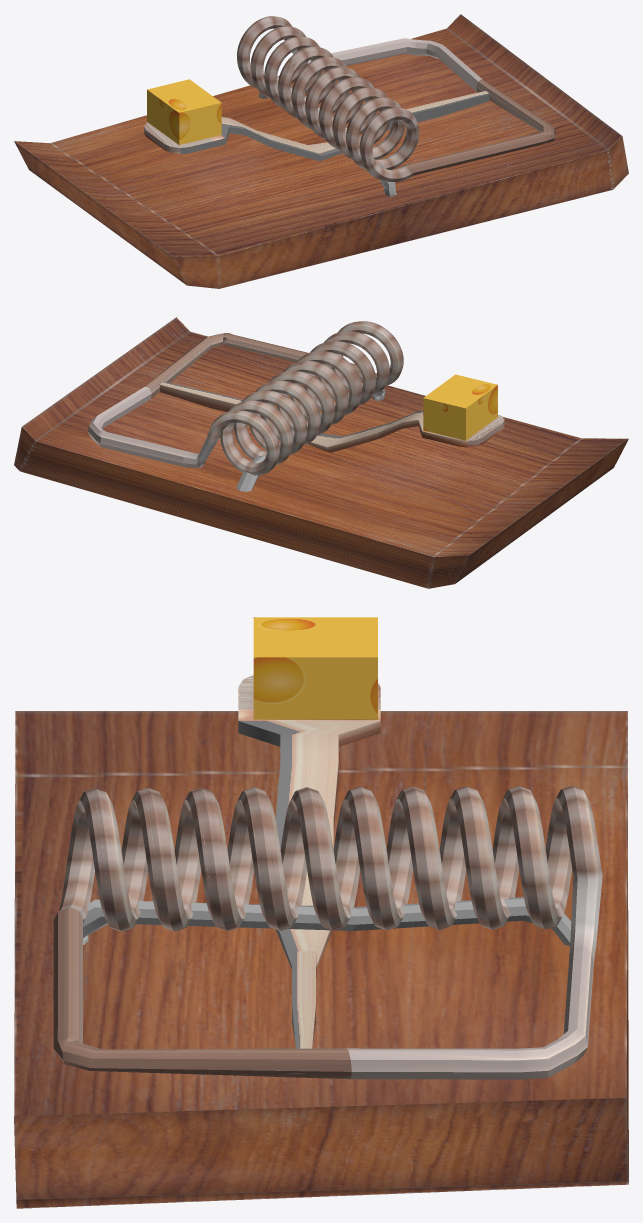
The model's file is Full Moustrap.fbx.
3 renders of one model, top to bottom at view 1: azimuth 30°, elevation 25°; view 2: azimuth 150°, elevation 25°; view 3: azimuth 270°, elevation 25°, orthographic. The views are drawn at different scales.
Parts seen in each view (by area): view 1: polySurface1; view 2: polySurface1; view 3: polySurface1.
Boxes of the visible parts, <box> form: polySurface1: <box>14,14,628,288</box>; polySurface1: <box>14,317,628,588</box>; polySurface1: <box>14,617,628,1208</box>.
Size of the model in its own units: 24.45 by 6.42 by 14.67.
5 materials, 4 textured.
